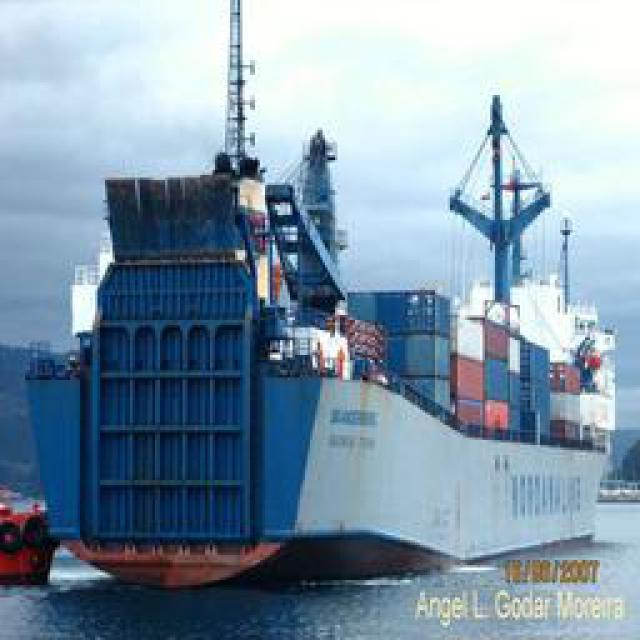Ship: (35, 75, 623, 598)
